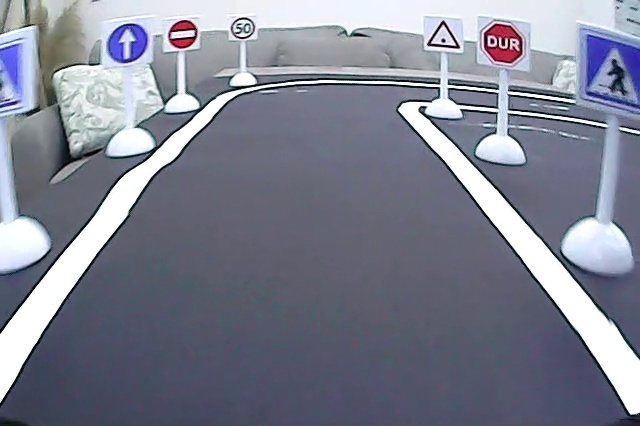do not enter: (168, 18, 199, 50)
green light: (425, 17, 462, 51)
pedestrian crossing: (580, 26, 640, 111)
speed limit 50: (229, 16, 257, 41)
stop sign: (479, 19, 528, 68)
